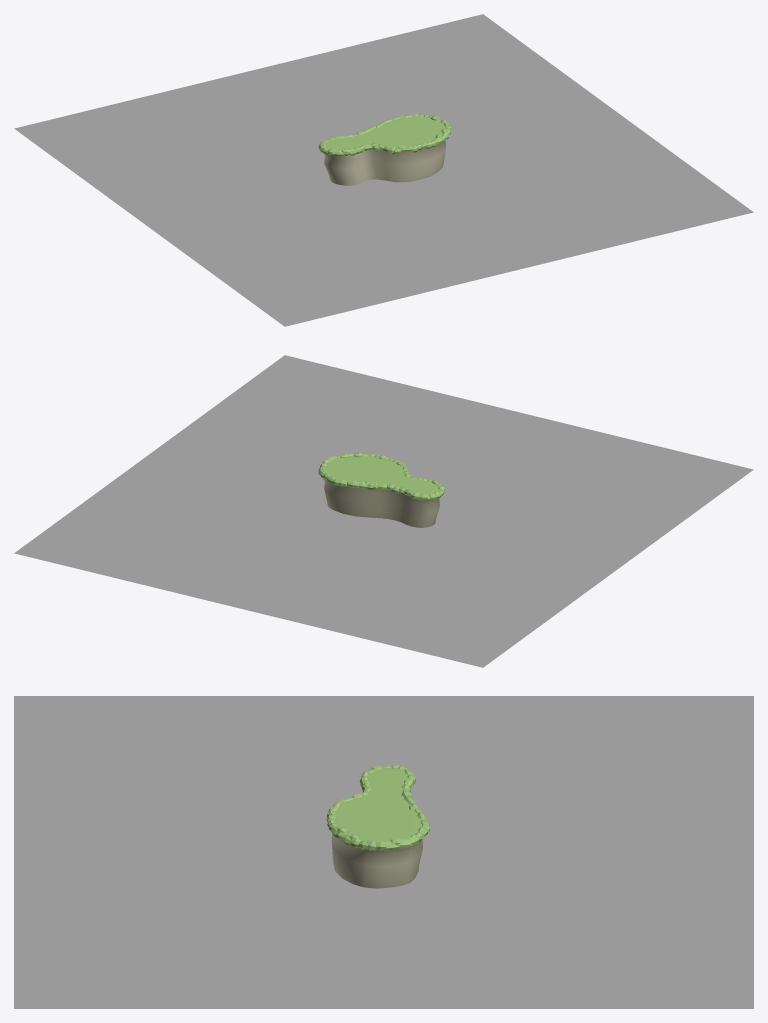
Rendered from Level_sprint_01.fbx.
3 views of the same model, one above another, from view 1: azimuth 30°, elevation 25°; view 2: azimuth 150°, elevation 25°; view 3: azimuth 270°, elevation 25° (orthographic). The views are drawn at different scales.
Visible parts, largest first — view 1: pPlane1, Ground, group2; view 2: pPlane1, Ground, group2; view 3: pPlane1, Ground, group2.
Boxes of the visible parts, x1,y1,x2,y2 form: pPlane1: [14, 14, 753, 326]; Ground: [323, 116, 445, 185]; group2: [318, 114, 451, 156]; pPlane1: [14, 355, 753, 667]; Ground: [323, 455, 442, 527]; group2: [318, 452, 444, 500]; pPlane1: [14, 696, 753, 1008]; Ground: [331, 766, 423, 888]; group2: [326, 765, 430, 850].
Bounding box in the file's own units: 442 × 47.87 × 442.
